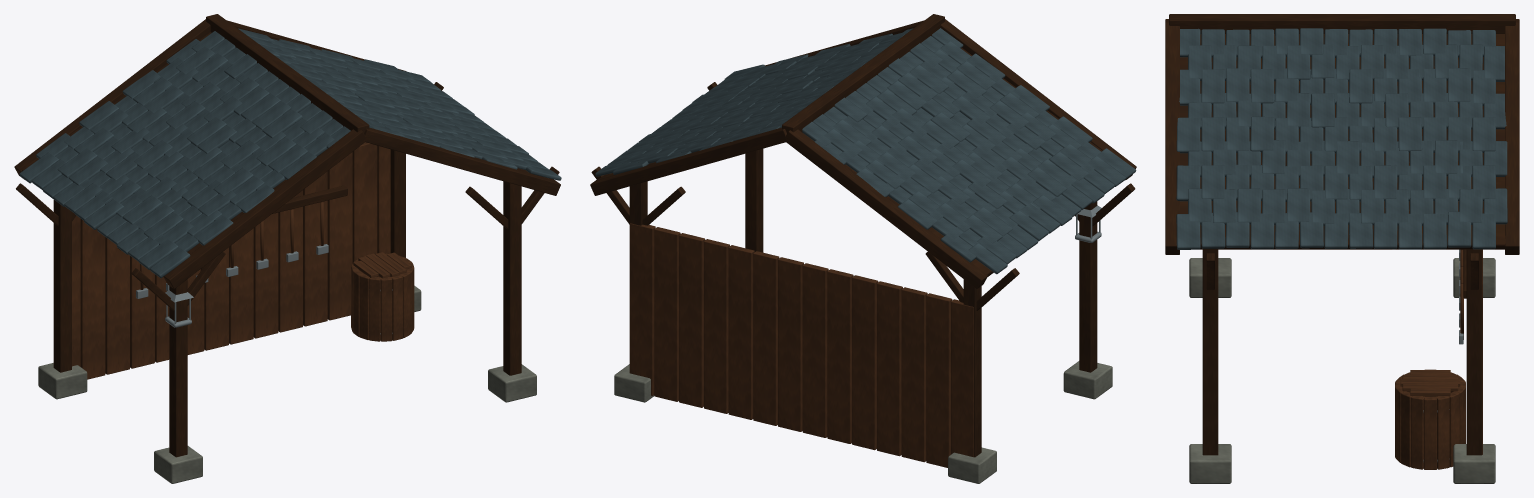
Rendered from smith_workshop.glb.
The picture shows the model from 3 angles, left to right: view 1: azimuth 30°, elevation 25°; view 2: azimuth 150°, elevation 25°; view 3: azimuth 270°, elevation 25°; orthographic projection. The views are drawn at different scales.
Parts seen in each view (by area): view 1: smith_workshop_slate, smith_workshop_oak, smith_workshop_dark_oak, smith_workshop_stone, smith_workshop_iron; view 2: smith_workshop_oak, smith_workshop_slate, smith_workshop_dark_oak, smith_workshop_stone; view 3: smith_workshop_slate, smith_workshop_dark_oak, smith_workshop_oak, smith_workshop_stone.
Boxes of the visible parts, <box> form: smith_workshop_slate: <box>19,28,561,278</box>; smith_workshop_oak: <box>72,142,414,379</box>; smith_workshop_dark_oak: <box>14,14,560,457</box>; smith_workshop_stone: <box>38,285,536,483</box>; smith_workshop_iron: <box>136,244,392,334</box>; smith_workshop_oak: <box>629,223,973,467</box>; smith_workshop_slate: <box>595,28,1136,274</box>; smith_workshop_dark_oak: <box>590,14,1136,457</box>; smith_workshop_stone: <box>614,361,1112,483</box>; smith_workshop_slate: <box>1176,28,1507,249</box>; smith_workshop_dark_oak: <box>1165,14,1519,455</box>; smith_workshop_oak: <box>1395,249,1482,469</box>; smith_workshop_stone: <box>1189,258,1495,483</box>.
Bounding box in the file's own units: 6.36 × 4.59 × 4.03.
6 materials, 4 textured.
